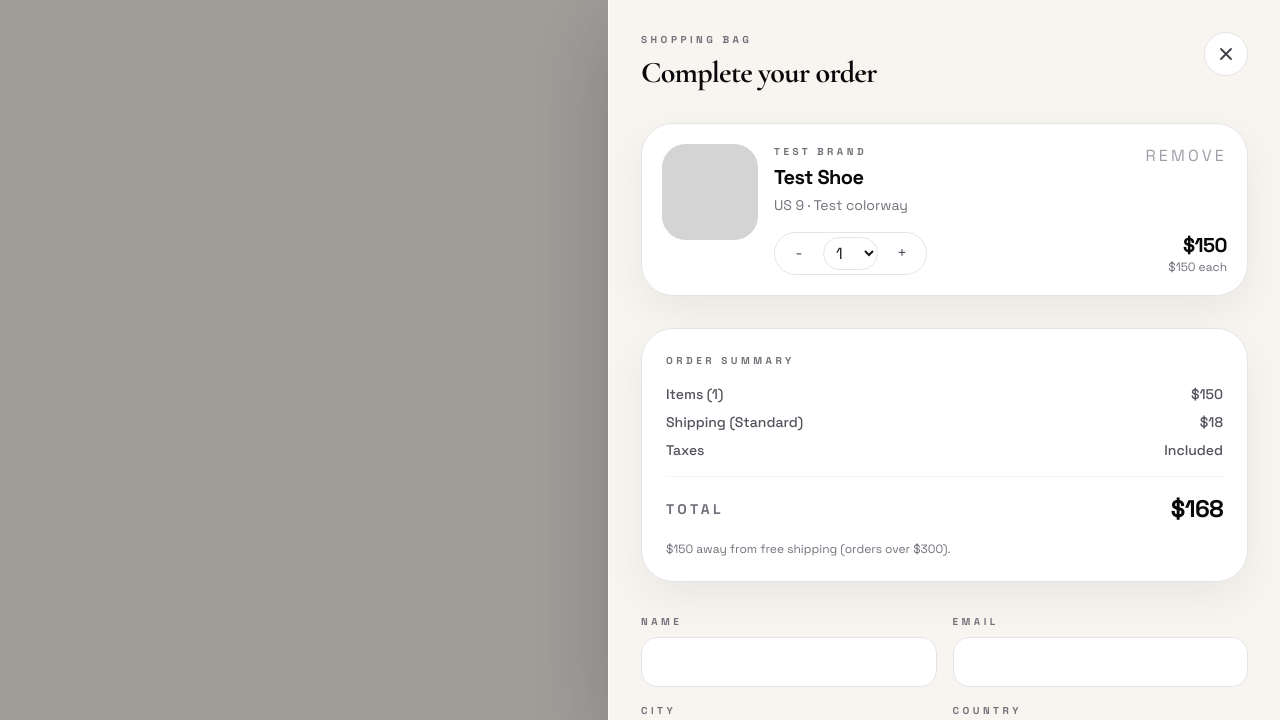
Test: CartDrawer (Backend Connected) › submits checkout and shows confirmation when backend mode is enabled
This screenshot has width=1280, height=720.
Type "Jane Doe" into the field labelled "Name" at coordinates (789, 662), box [641, 637, 936, 687]
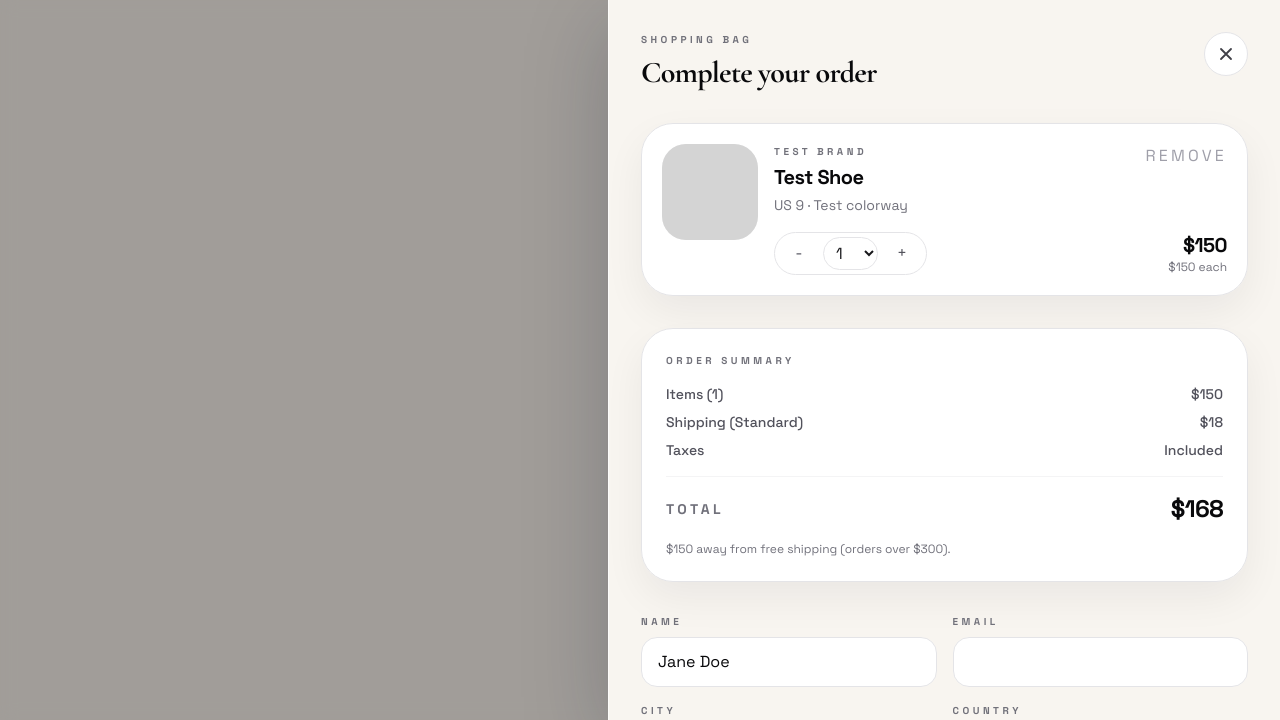
Type "jane@example.com" into the field labelled "Email" at coordinates (1100, 662), box [952, 637, 1248, 687]
(page scrolled)
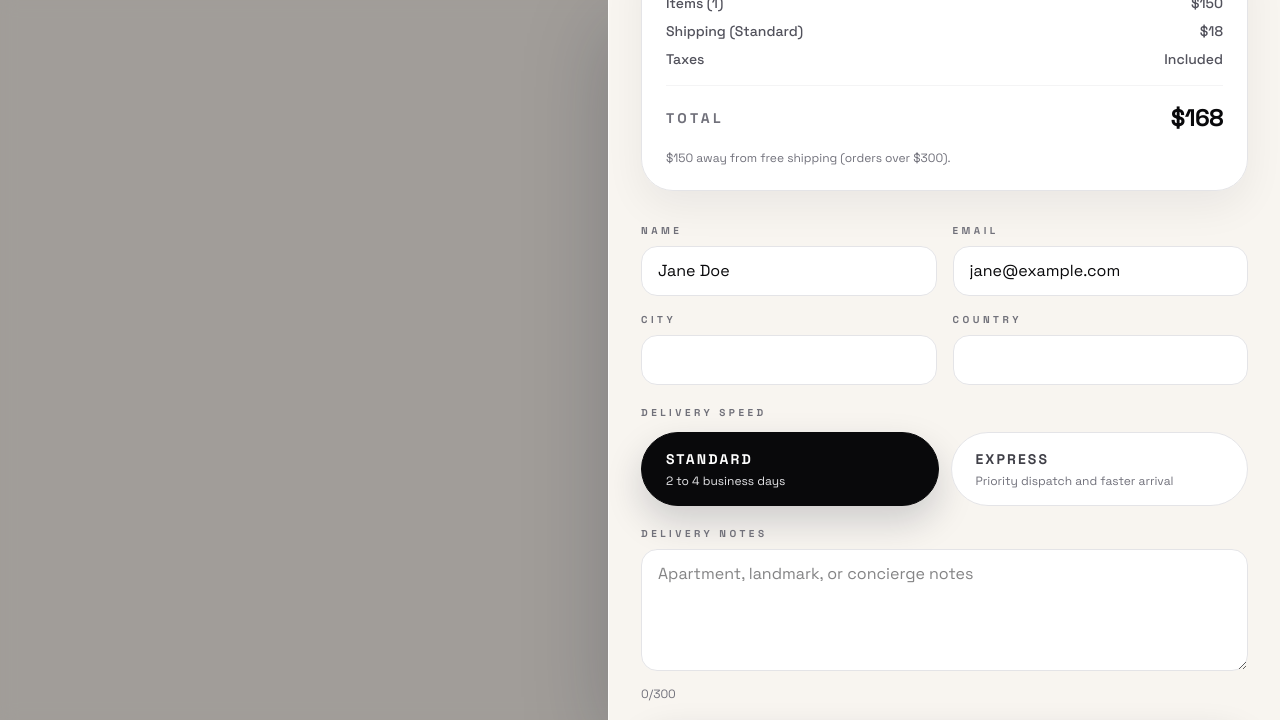
Type "Dhaka" into the field labelled "City" at coordinates (789, 360), box [641, 335, 936, 385]
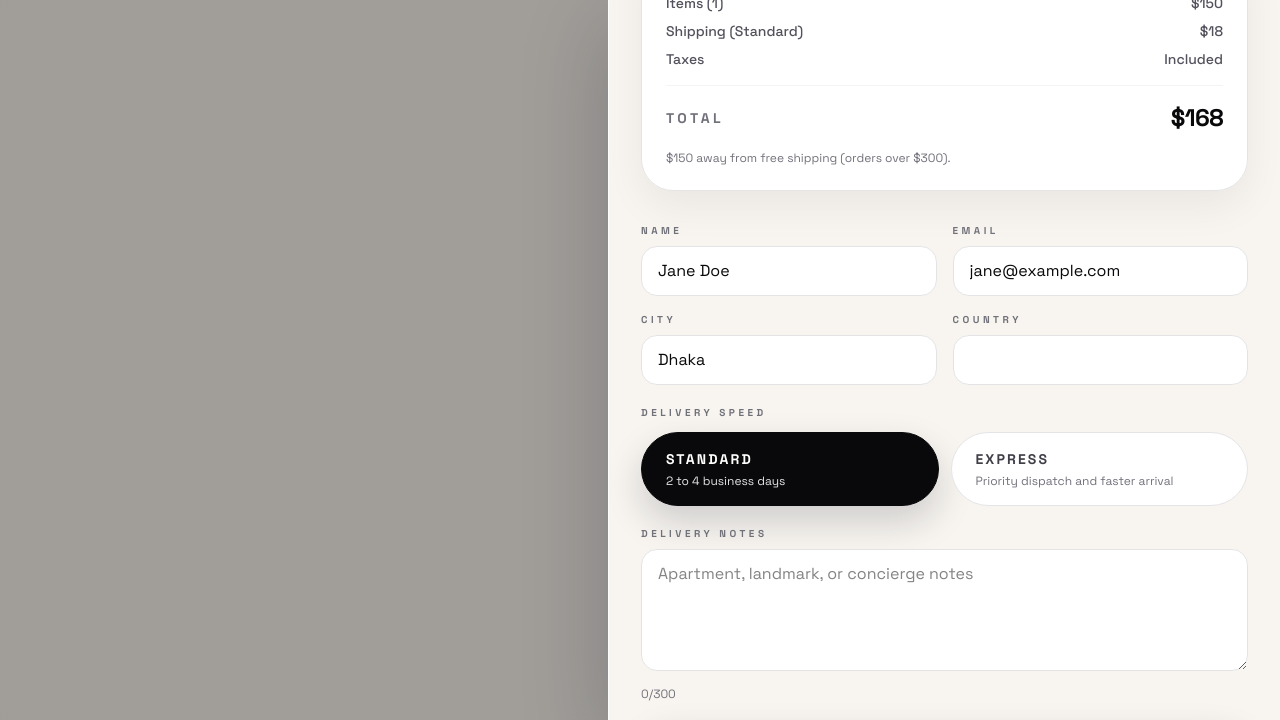
Type "Bangladesh" into the field labelled "Country" at coordinates (1100, 360), box [952, 335, 1248, 385]
(page scrolled)
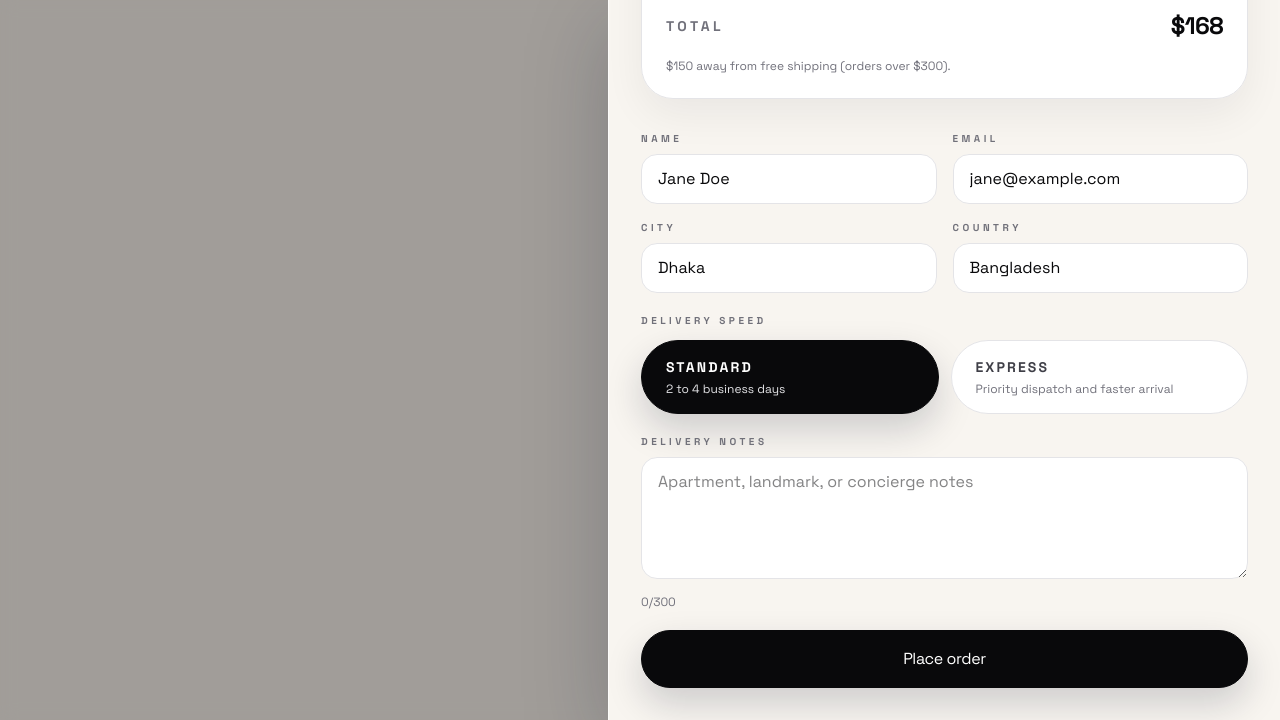
Click the button "Place order" at coordinates (944, 659), box [641, 630, 1248, 688]
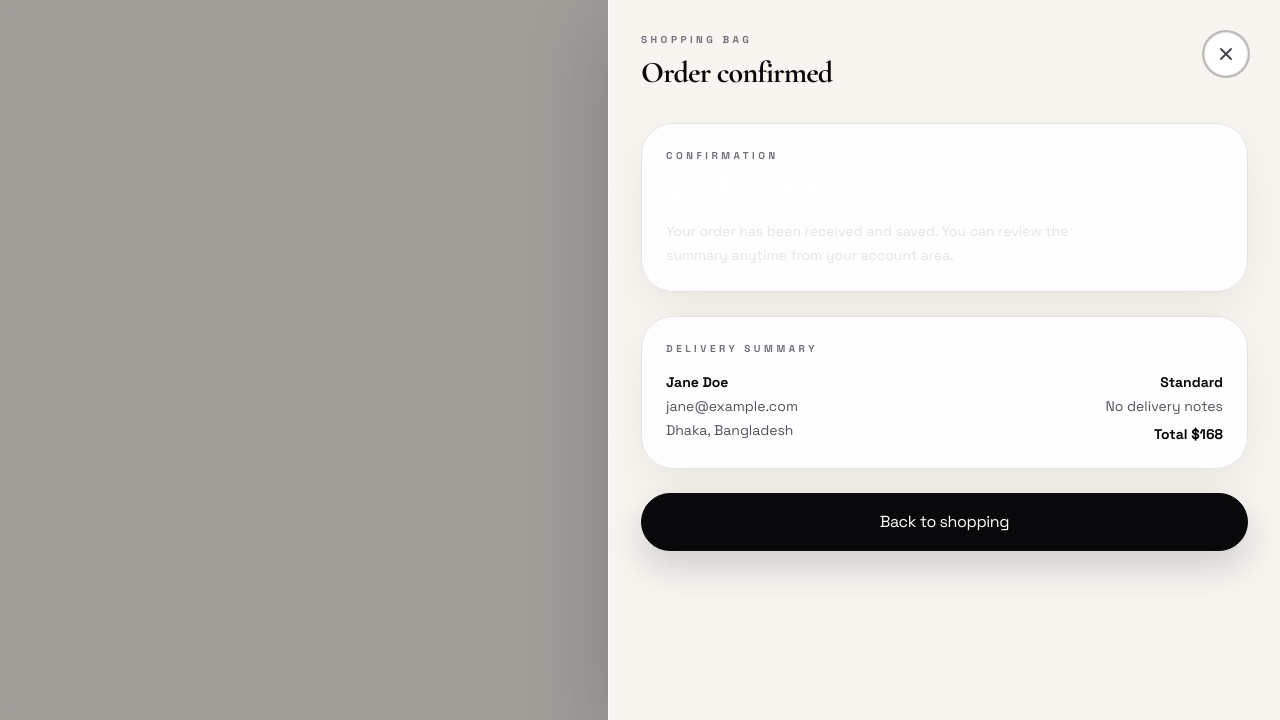
Expected: the heading "Order confirmed" is shown, [641, 55, 832, 91]
